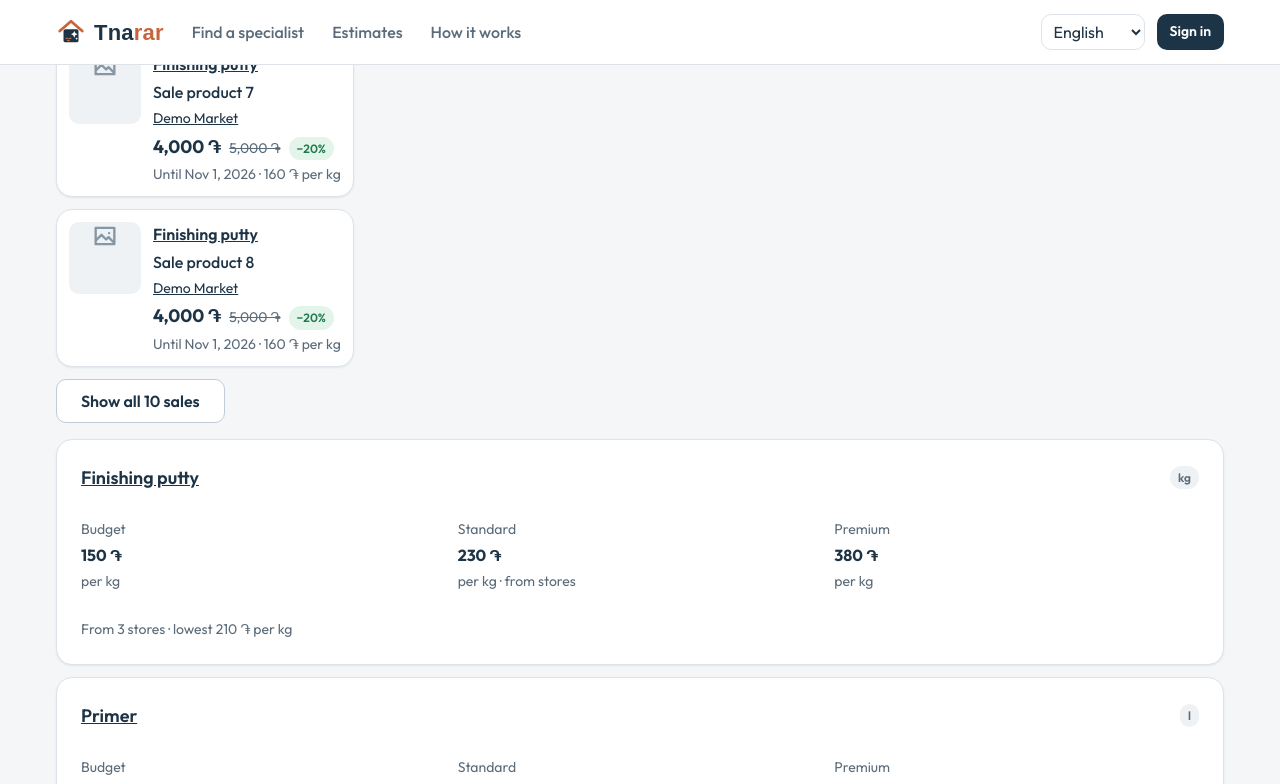
Test case: On sale now › shows eight sales and the rest on request
(page scrolled)
Click the button "Show all 10 sales".
click(140, 401)  # box [56,379,225,423]
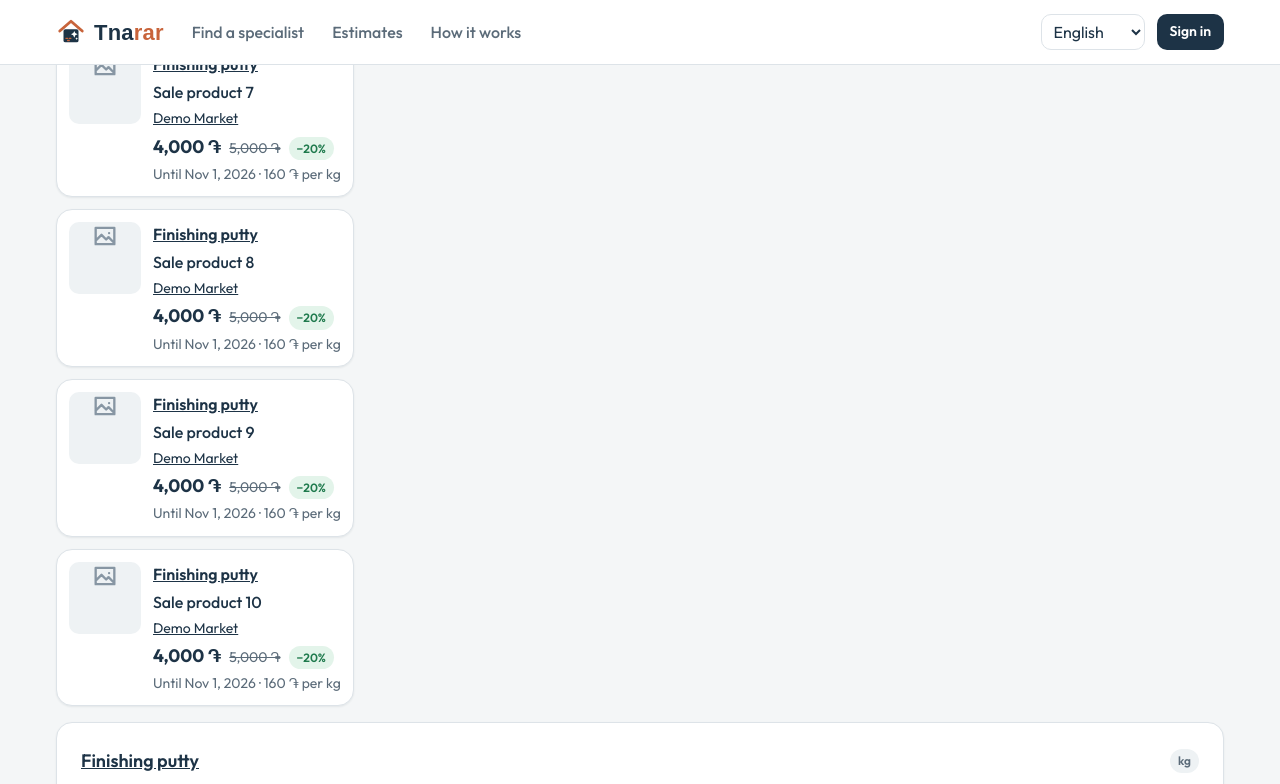
Expected: the button "sales" is gone
